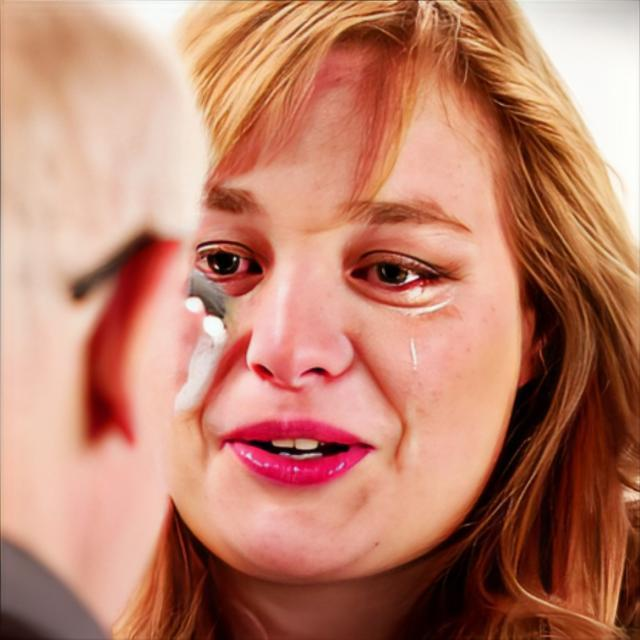sad: (173, 36, 525, 586)
